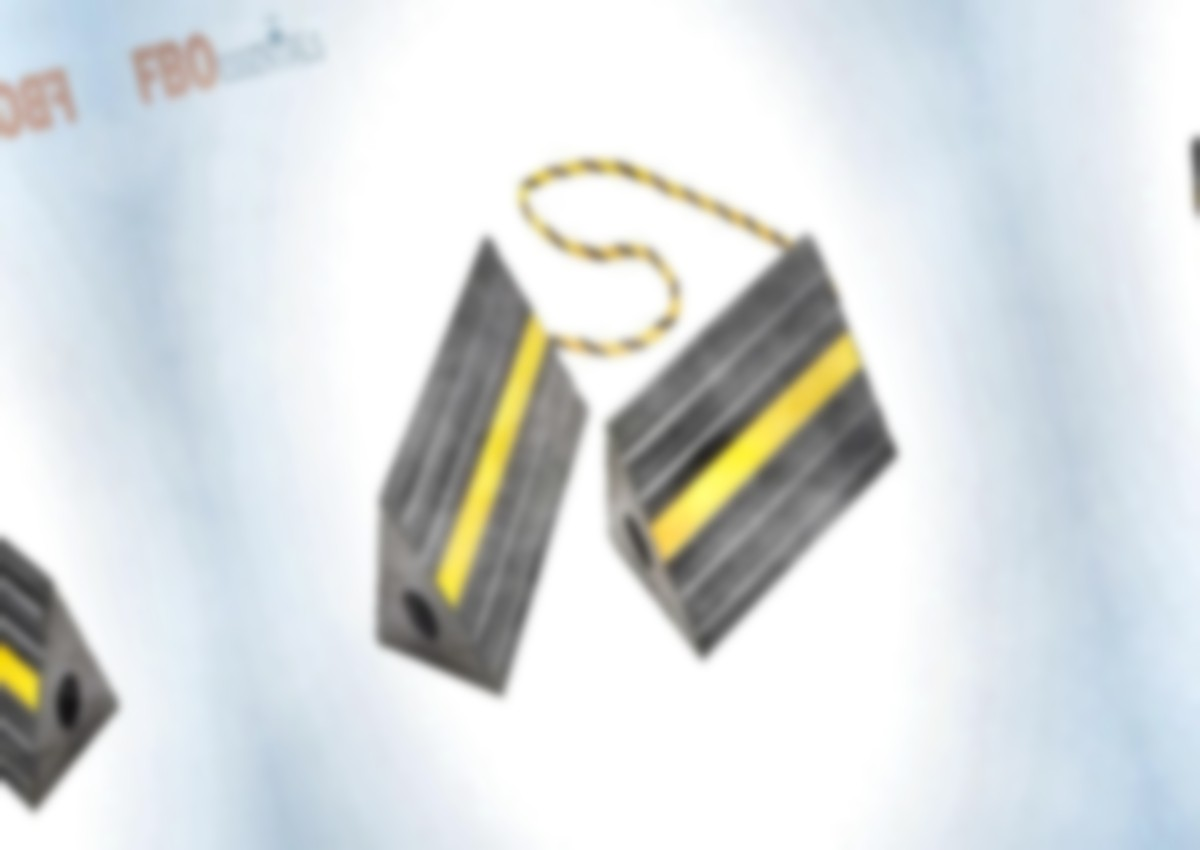chock: (281, 208, 654, 731), (549, 212, 938, 682), (0, 333, 145, 850)
